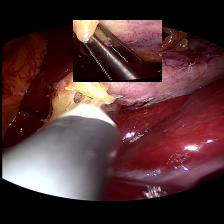Grasper: (72, 20, 161, 82)
Hook: (61, 95, 127, 131)
